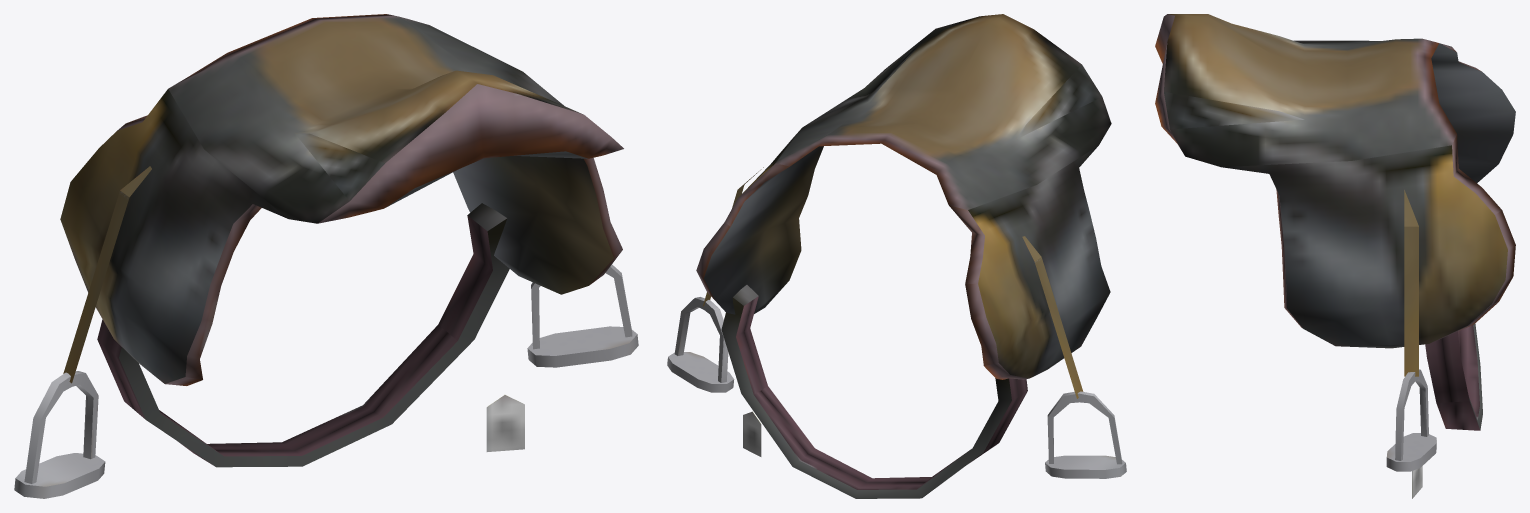
Rendered from saddle.FBX.
3 views of the same model, side by side, from view 1: azimuth 30°, elevation 25°; view 2: azimuth 150°, elevation 25°; view 3: azimuth 270°, elevation 25° (orthographic). The views are drawn at different scales.
Parts seen in each view (by area): view 1: saddle; view 2: saddle; view 3: saddle.
Part boxes in pixels (bbox=[...]): saddle: bbox=[14, 14, 638, 498]; saddle: bbox=[667, 14, 1126, 498]; saddle: bbox=[1155, 14, 1515, 498].
Size of the model in its own units: 99.91 by 81.55 by 65.45.
1 material, 1 textured.
